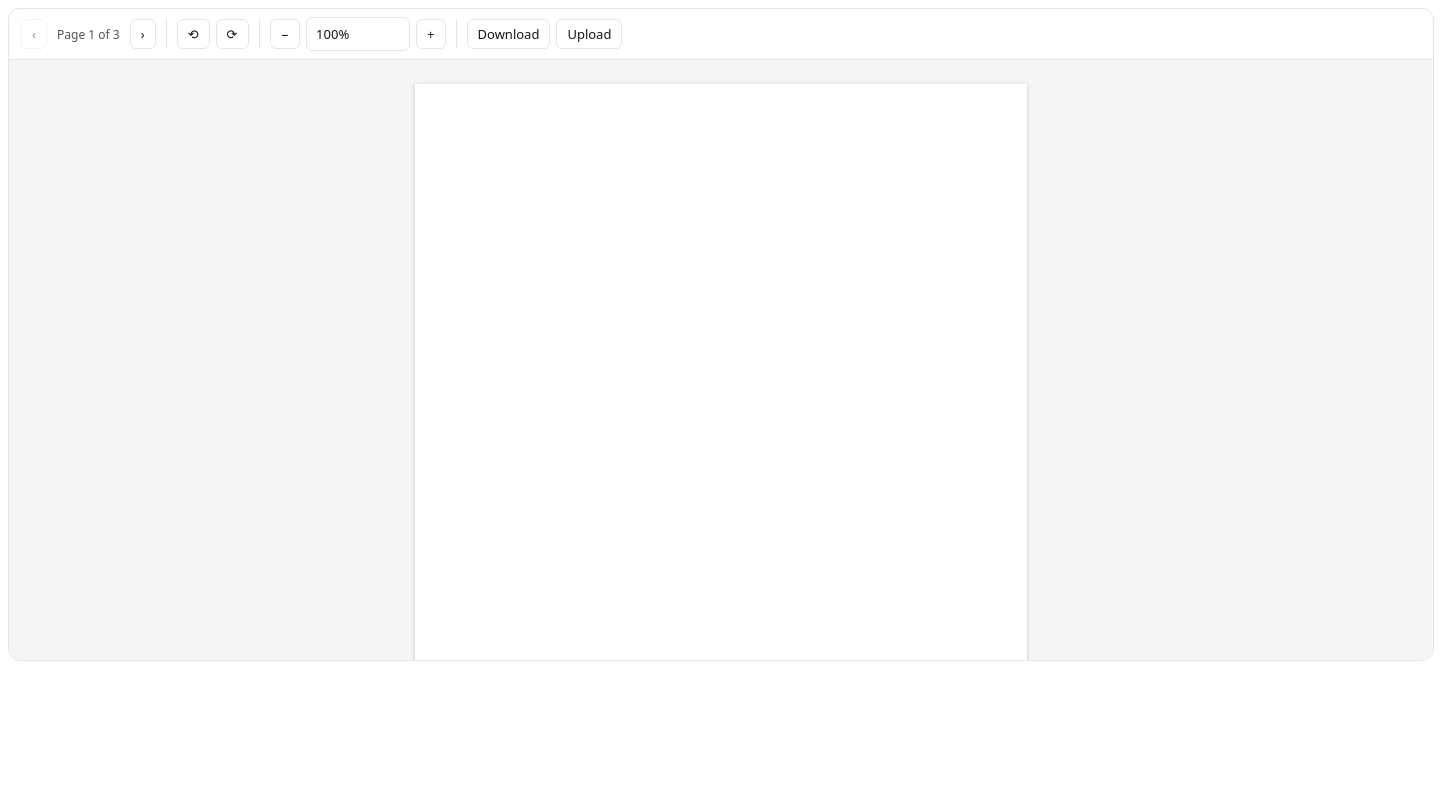
PdfViewer › navigates pages and reports the active page
expect the text "Page 1 of 3" is shown: met, box x1=53 y1=26 x2=124 y2=42
What coordinates should you click on to do the following:
click the button named "Next page"
I would click on:
 (143, 34)
Its box is x1=130 y1=19 x2=156 y2=49.
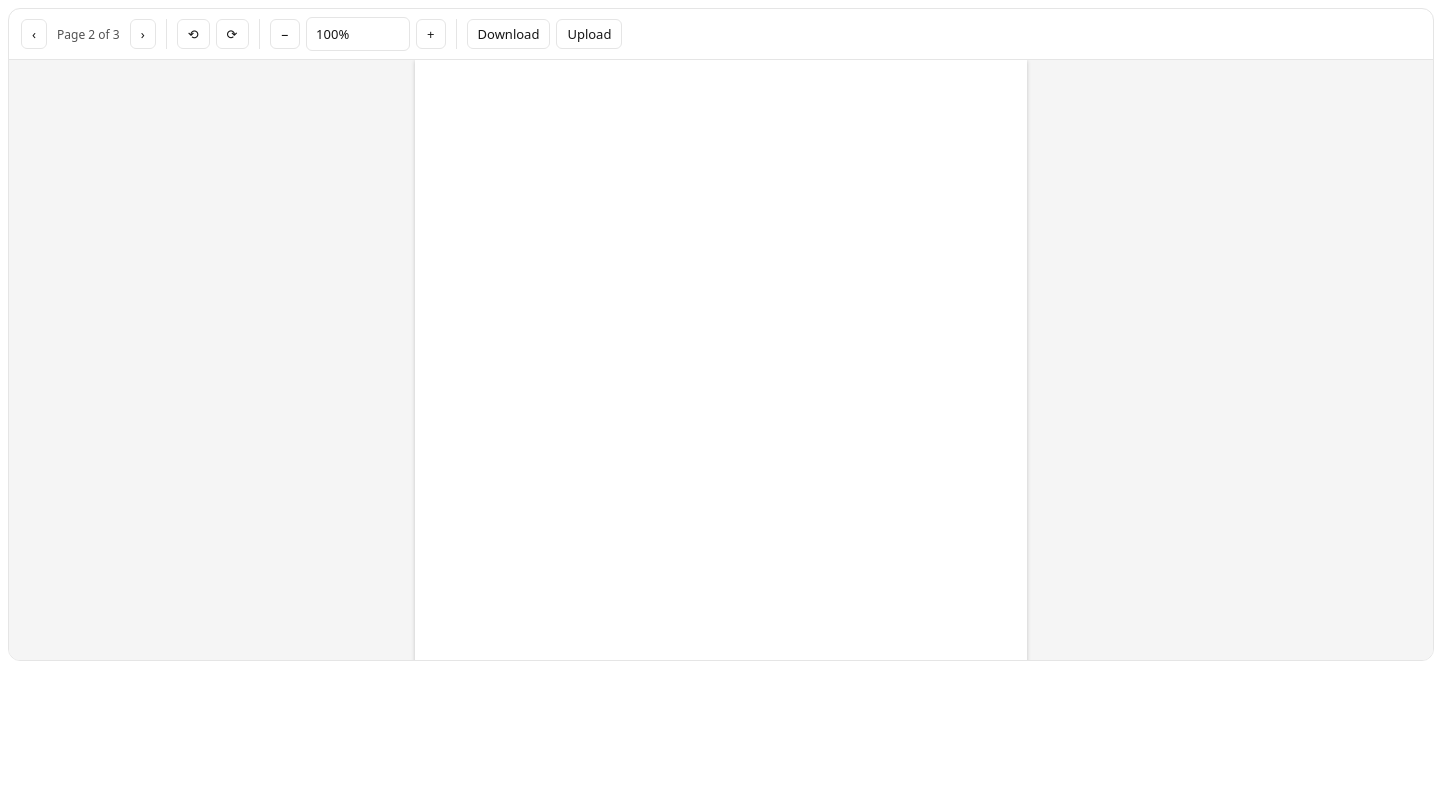
expect the text with test id "pdf-page-indicator" reads "Page 2 of 3": met, box x1=57 y1=26 x2=120 y2=42
What coordinates should you click on to do the following:
click the button named "Previous page"
I would click on:
 (34, 34)
Its box is x1=21 y1=19 x2=47 y2=49.
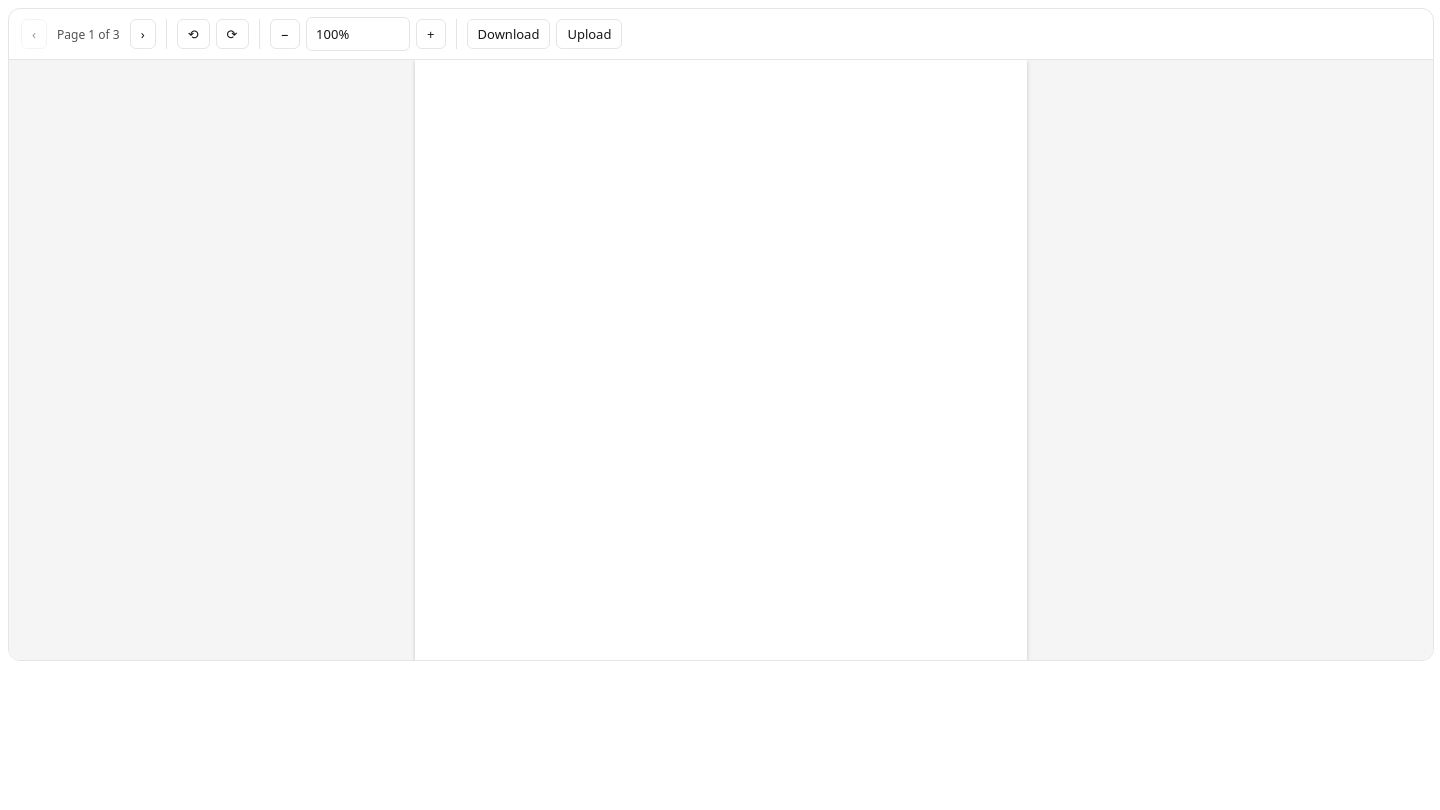
expect the text with test id "pdf-page-indicator" reads "Page 1 of 3": met, box x1=57 y1=26 x2=120 y2=42
